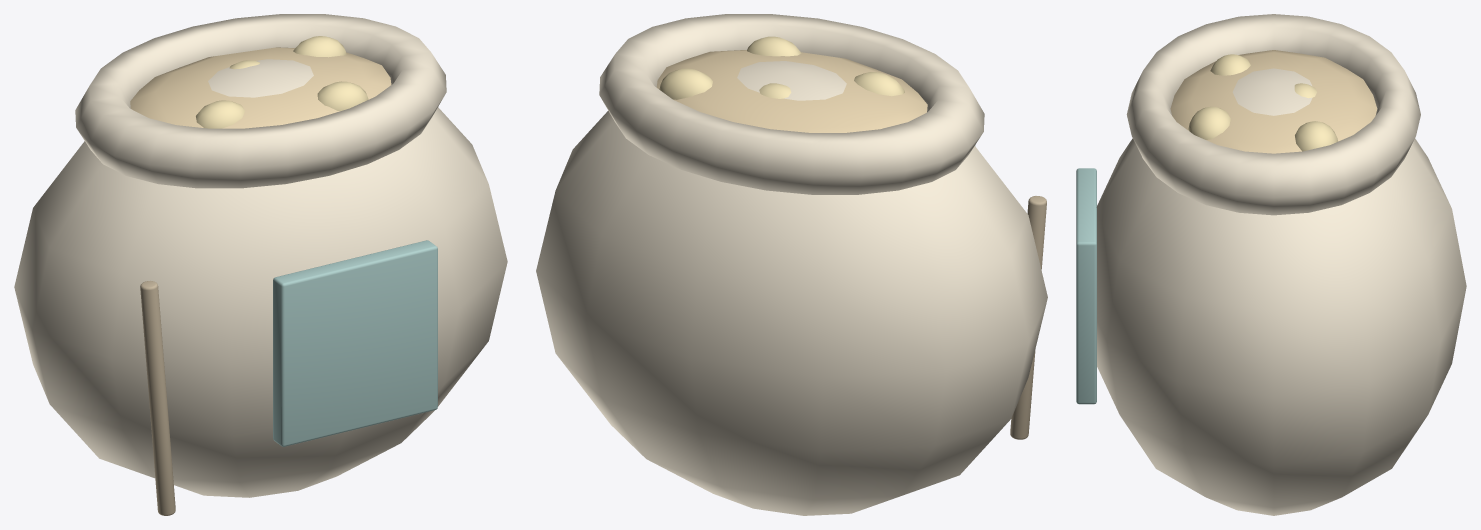
File: ration-carried.glb
3 renders of one model, left to right at view 1: azimuth 30°, elevation 25°; view 2: azimuth 150°, elevation 25°; view 3: azimuth 270°, elevation 25°, orthographic. The views are drawn at different scales.
Parts seen in each view (by area): view 1: Padded ration sack.003, Rolled fabric mouth.003, Diet label.003, Ration surface.002, Stitched sack seam.003, Grain kernel.009, Grain kernel.008, Grain kernel.011; view 2: Padded ration sack.003, Rolled fabric mouth.003, Ration surface.002, Stitched sack seam.003, Grain kernel.011, Grain kernel.008, Grain kernel.009; view 3: Padded ration sack.003, Rolled fabric mouth.003, Ration surface.002, Diet label.003, Grain kernel.009, Grain kernel.011, Grain kernel.008.
Part boxes in pixels (<box>): Padded ration sack.003: <box>14,59,507,497</box>; Rolled fabric mouth.003: <box>75,14,446,188</box>; Diet label.003: <box>273,240,437,446</box>; Ration surface.002: <box>130,47,391,128</box>; Stitched sack seam.003: <box>140,281,175,515</box>; Grain kernel.009: <box>317,81,368,110</box>; Grain kernel.008: <box>196,100,244,128</box>; Grain kernel.011: <box>293,36,346,57</box>; Padded ration sack.003: <box>536,61,1047,515</box>; Rolled fabric mouth.003: <box>599,14,984,194</box>; Ration surface.002: <box>656,50,927,132</box>; Stitched sack seam.003: <box>1010,196,1046,439</box>; Grain kernel.011: <box>659,68,712,99</box>; Grain kernel.008: <box>854,72,904,96</box>; Grain kernel.009: <box>747,36,801,56</box>; Padded ration sack.003: <box>1096,68,1466,515</box>; Rolled fabric mouth.003: <box>1126,14,1420,215</box>; Ration surface.002: <box>1170,50,1377,153</box>; Diet label.003: <box>1076,168,1096,404</box>; Grain kernel.009: <box>1188,106,1230,139</box>; Grain kernel.011: <box>1295,121,1338,151</box>; Grain kernel.008: <box>1210,54,1250,75</box>.
Size of the model in its own units: 0.76 by 0.65 by 0.567.
